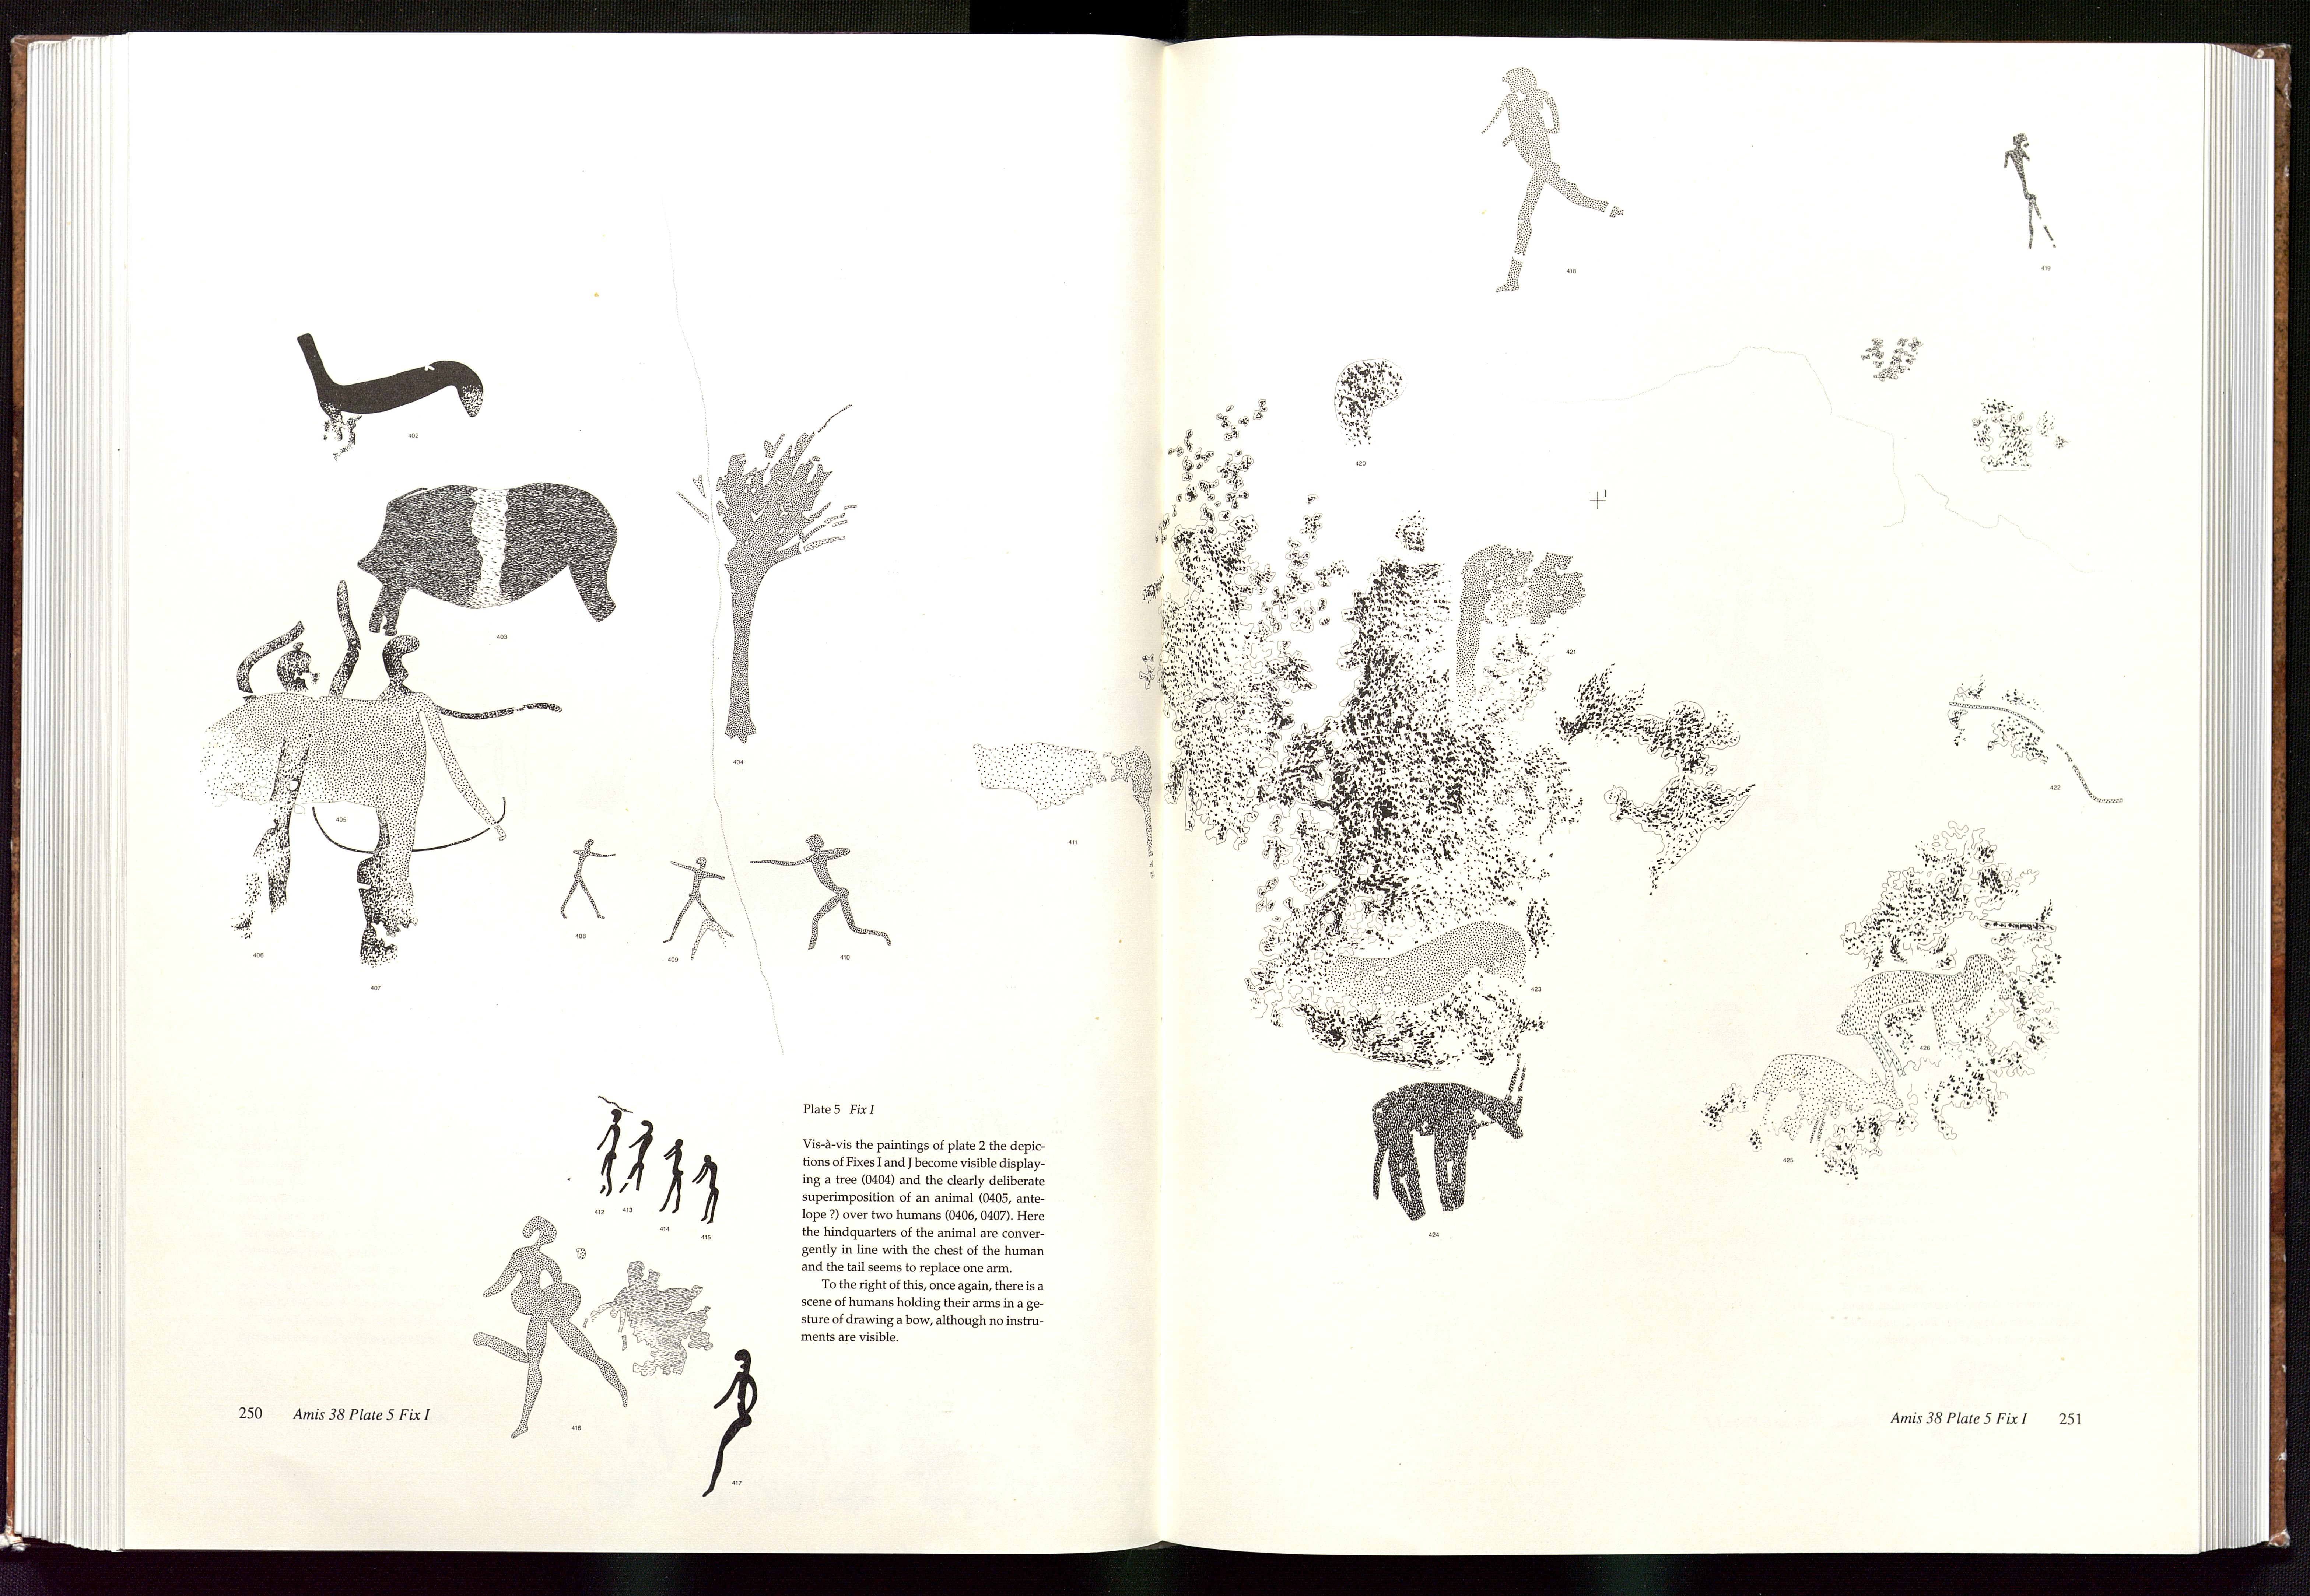animal: (348, 475, 635, 644), (1367, 1055, 1544, 1246), (291, 333, 495, 473)
human: (476, 1199, 638, 1442), (1475, 57, 1623, 303), (748, 826, 898, 961), (699, 1339, 775, 1504), (1991, 124, 2065, 288), (667, 848, 731, 968), (557, 834, 621, 927), (687, 1145, 743, 1244), (586, 1096, 625, 1211), (613, 1113, 658, 1209), (660, 1136, 689, 1231)
